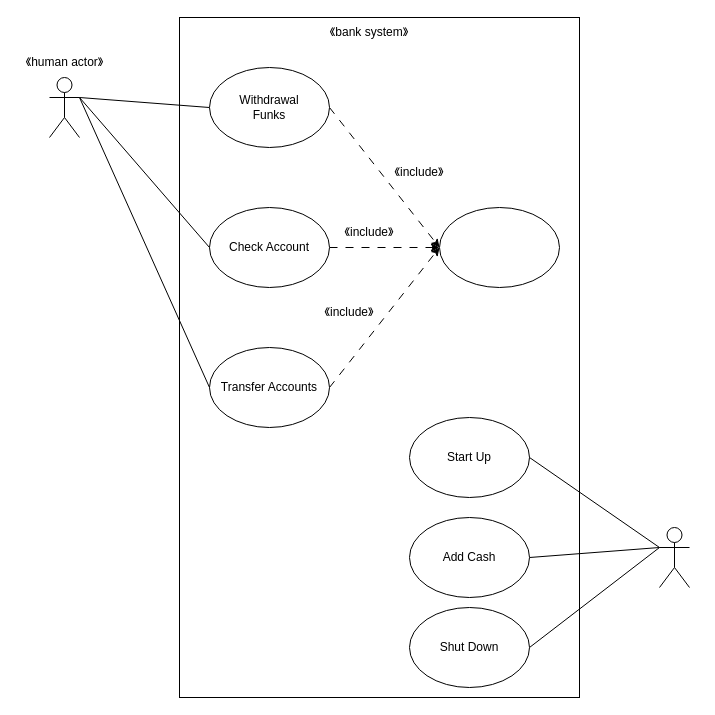
Some shapes in this 715 by 715 pixel diagram are drawn without their labels. Each missing label, with the centre of its shape:
"ATM Customer" goes at point (64, 107).
"ATM Operator" goes at point (674, 557).
"Verify PIN" goes at point (499, 247).
